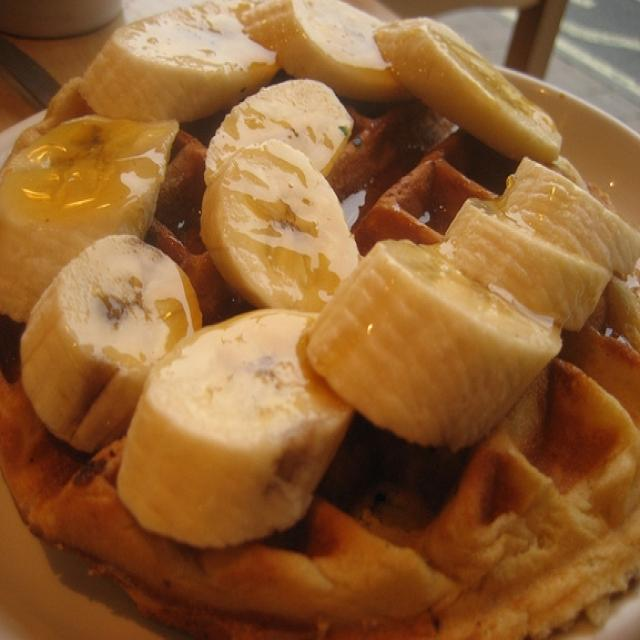炸货点心: (11, 10, 623, 624)
蛋糕甜品: (11, 10, 623, 624)
